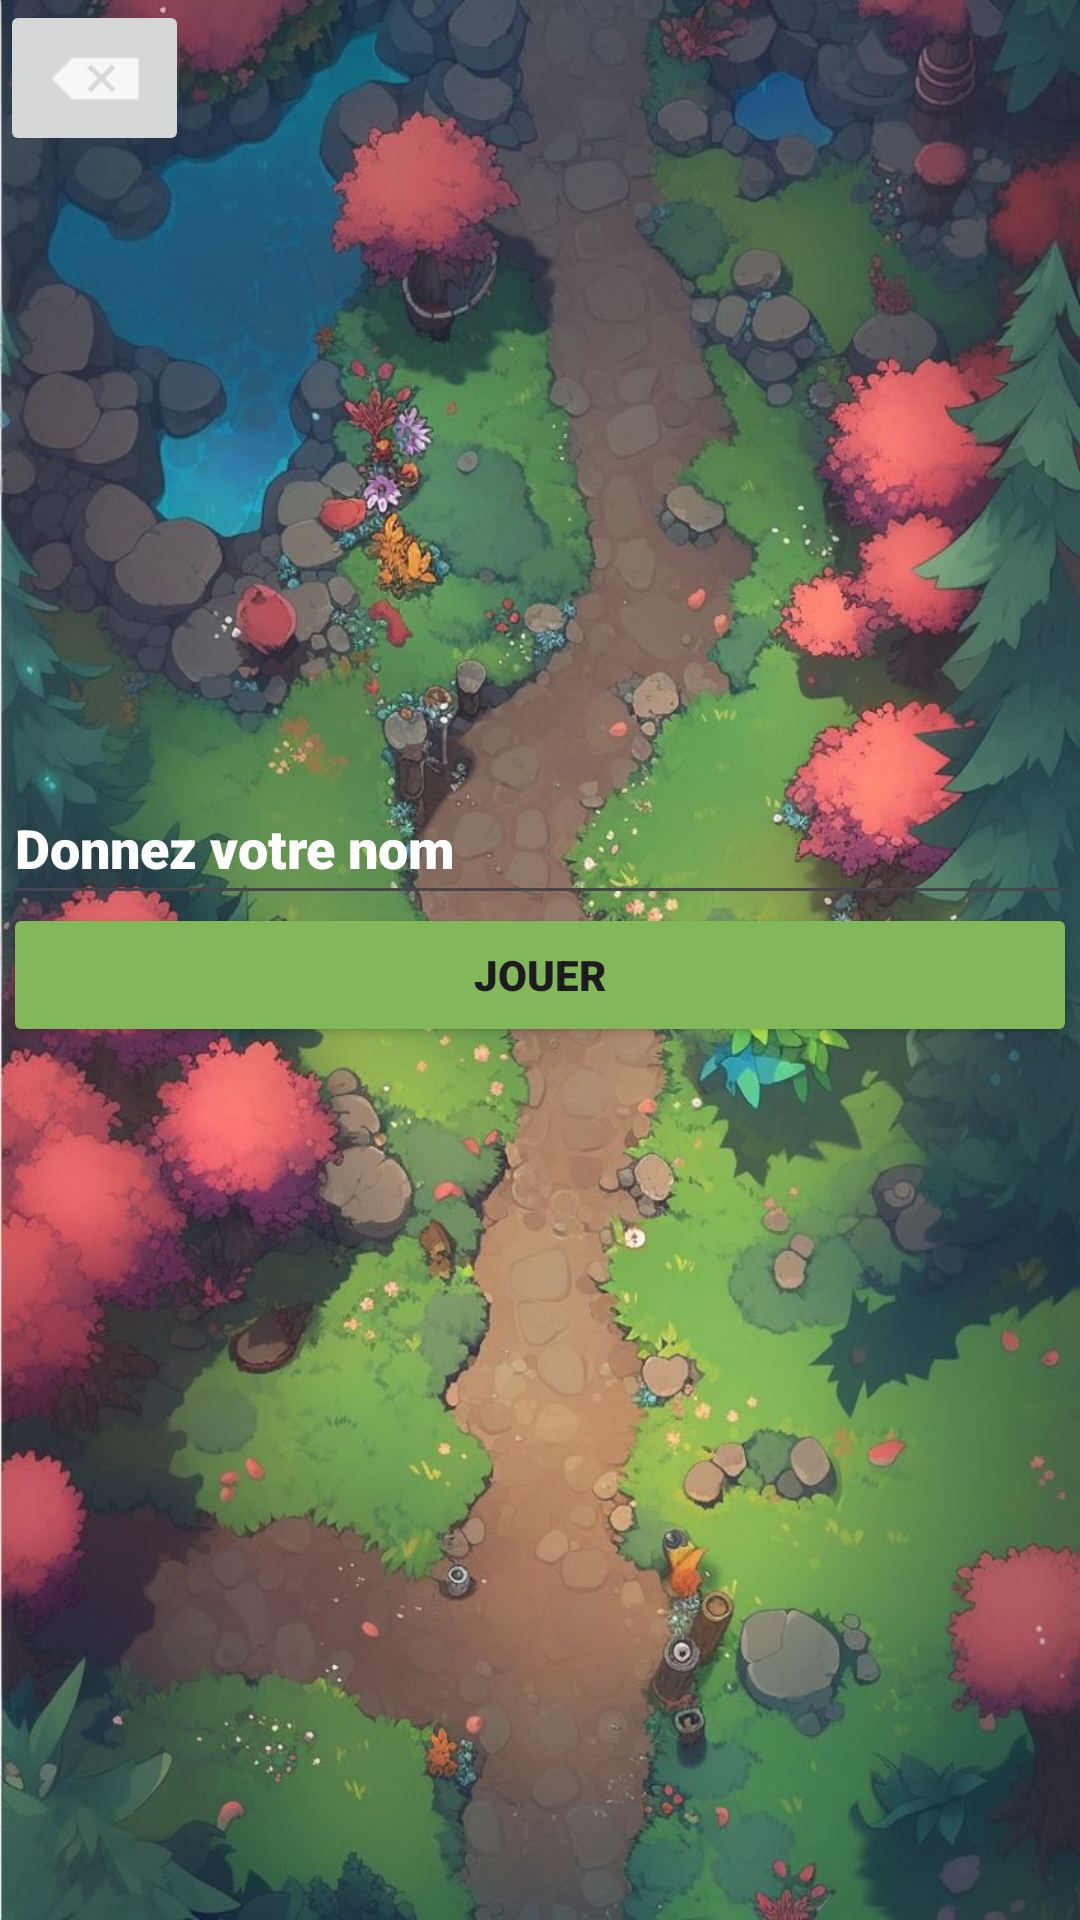

Icon click points for this 1080w x 1920h phone screenshot, format [x,y]:
Back: [94,78]
